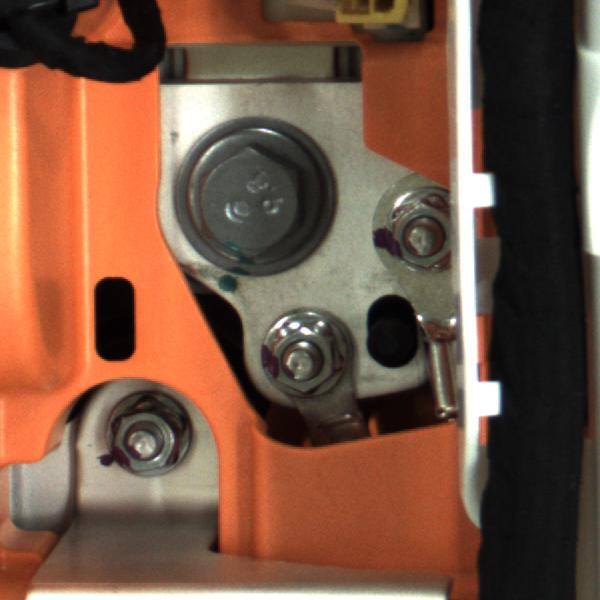nut_b: (188, 135, 322, 267)
screw_s: (258, 318, 343, 401), (94, 392, 176, 477), (374, 198, 457, 278)
